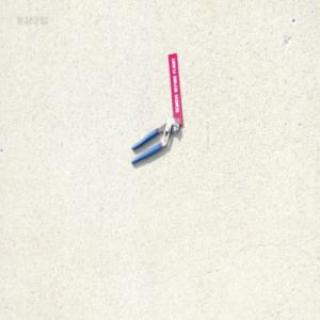LuggageTagtrack_idkeyframe: (166, 51, 183, 125)
Pliertrack_idkeyframe: (130, 116, 179, 165)
